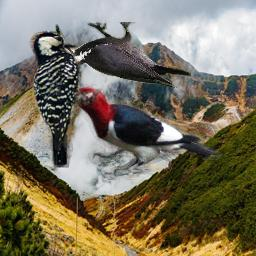Woodpecker: (45, 82, 222, 180), (29, 28, 102, 169), (55, 22, 191, 88)
